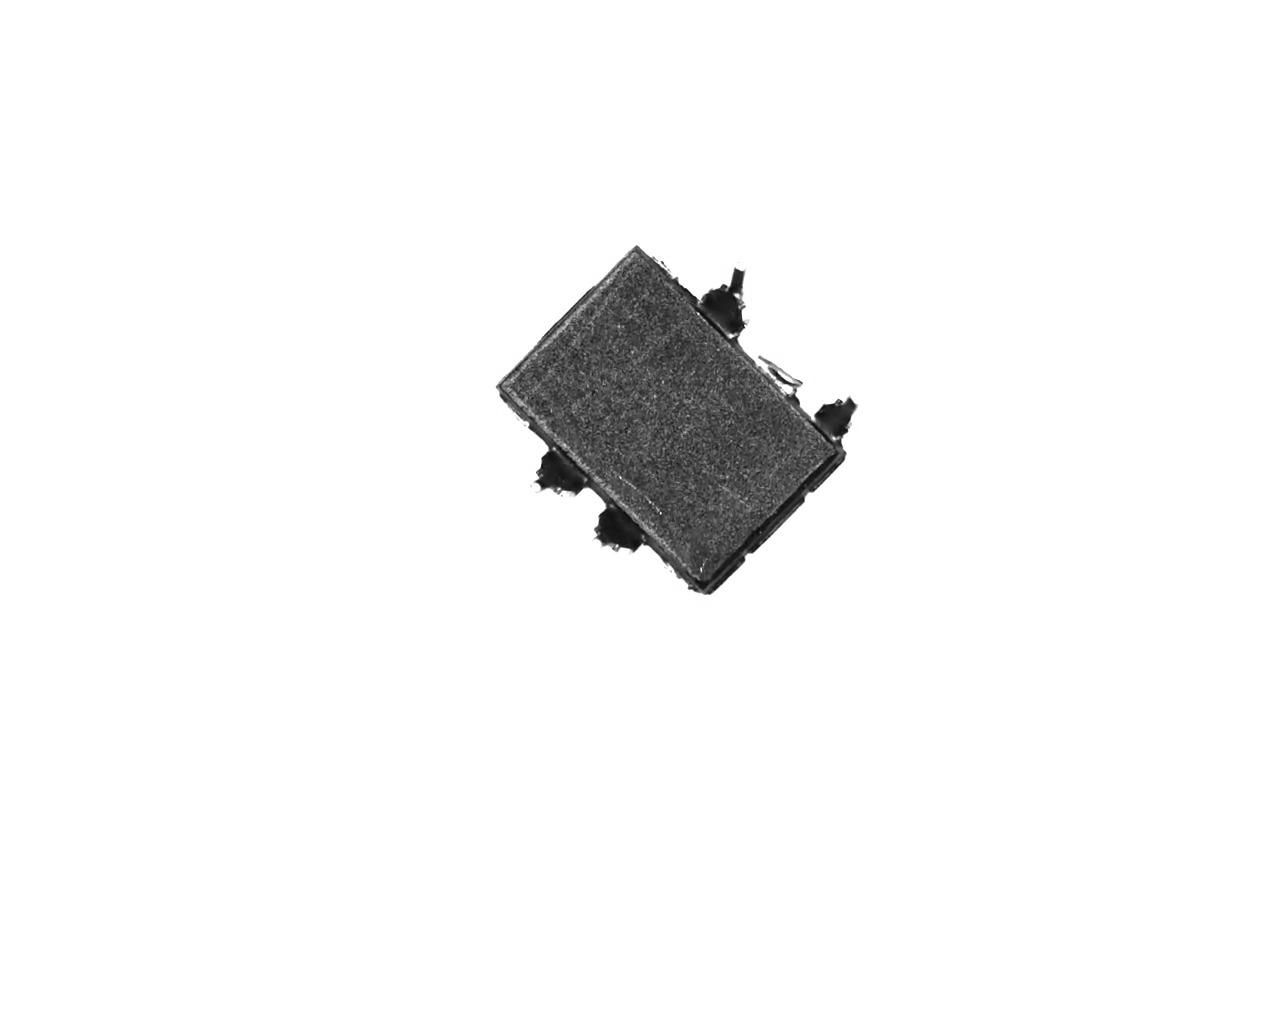brokenLeg: (698, 250, 754, 335), (522, 439, 598, 502), (805, 371, 856, 450), (587, 495, 649, 560)
missingLeg: (738, 344, 806, 400), (644, 242, 695, 296), (489, 400, 556, 441), (657, 545, 704, 597)
